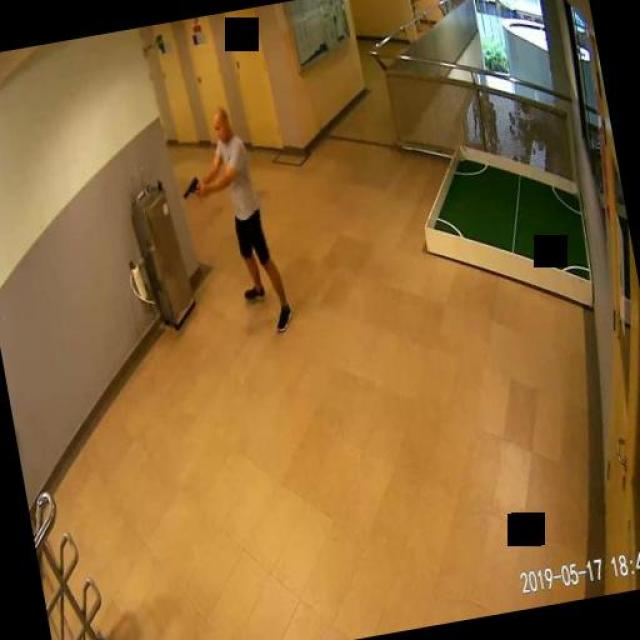gun: (178, 174, 202, 198)
